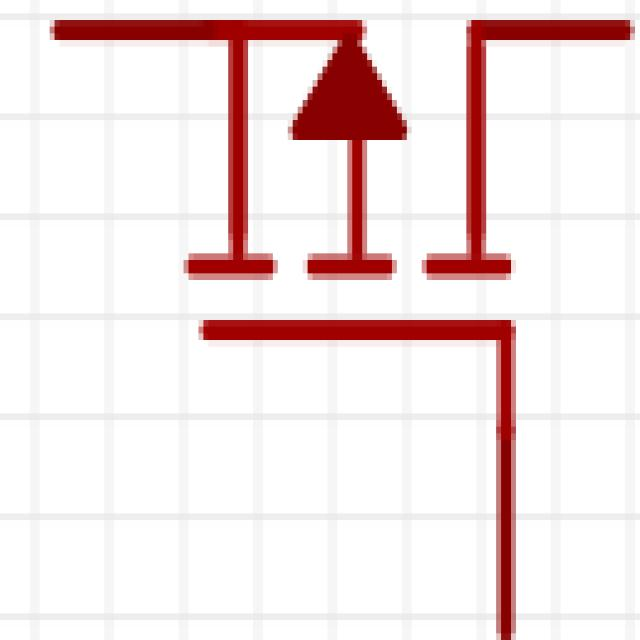pmos: (50, 0, 622, 552)
